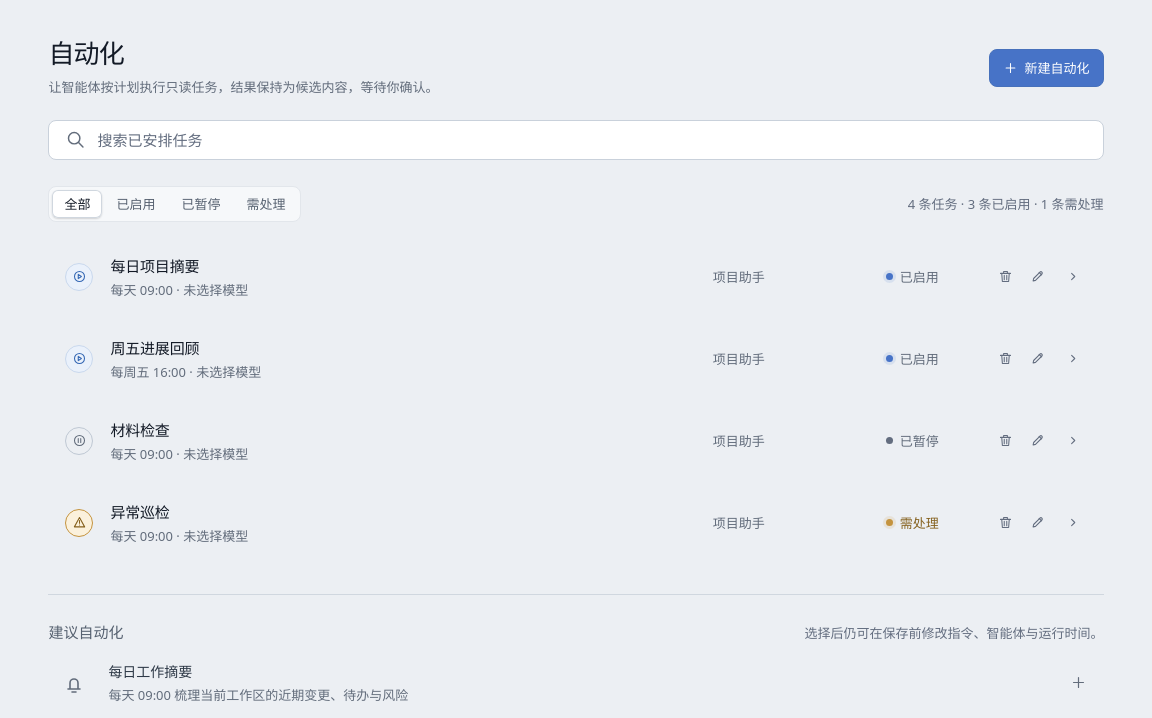
it: 已安排任务页面 › 搜索与筛选会立即收窄任务列表
expect the text "每日项目摘要" is shown: met, box [110,256,199,276]
In the search field labelled "搜索已安排任务": point(574, 140) [97,121,1051,159], type "周五"
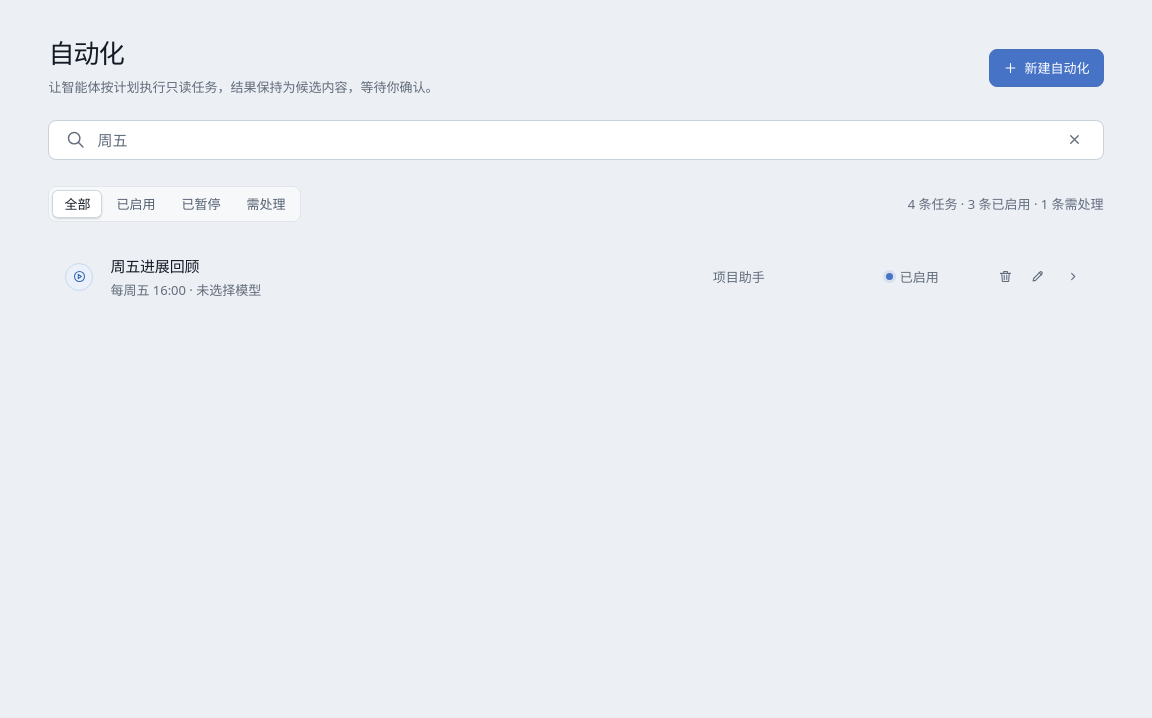
expect the text "周五进展回顾" is shown: met, box [110,256,199,276]
expect the button "每日项目摘要" is gone: met
Click the button named "清除搜索": point(1075, 140) [1061,126,1089,154]
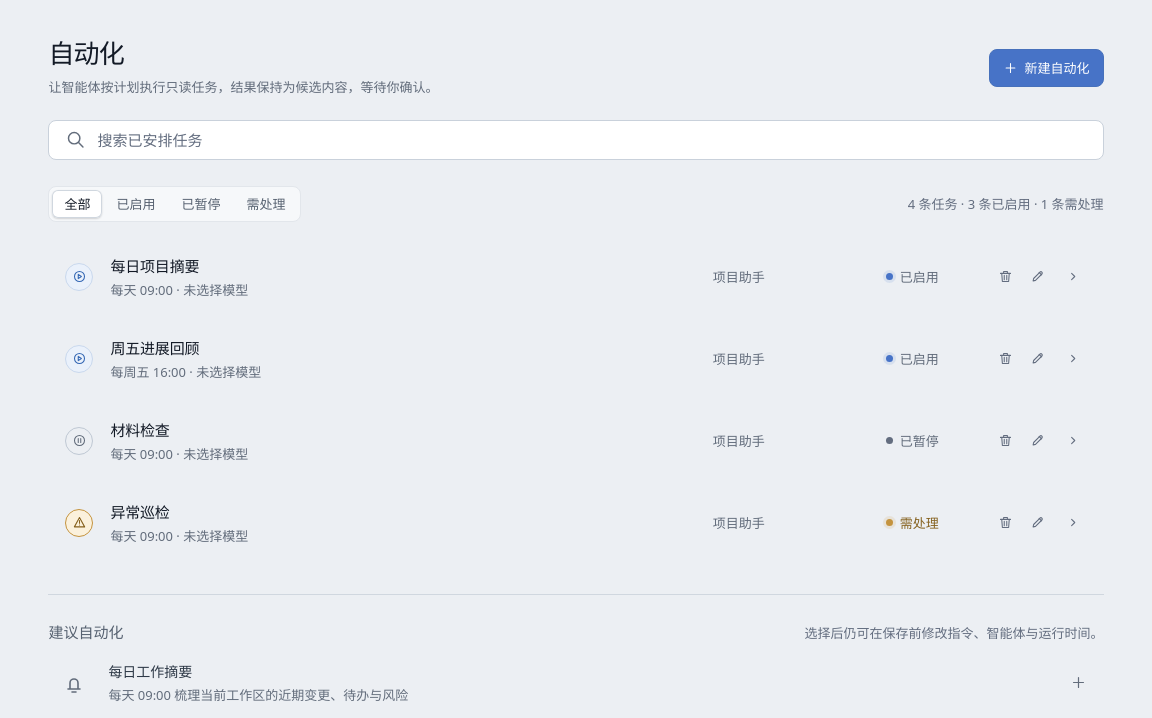
Click the button "已暂停": point(201, 204) [169,190,232,218]
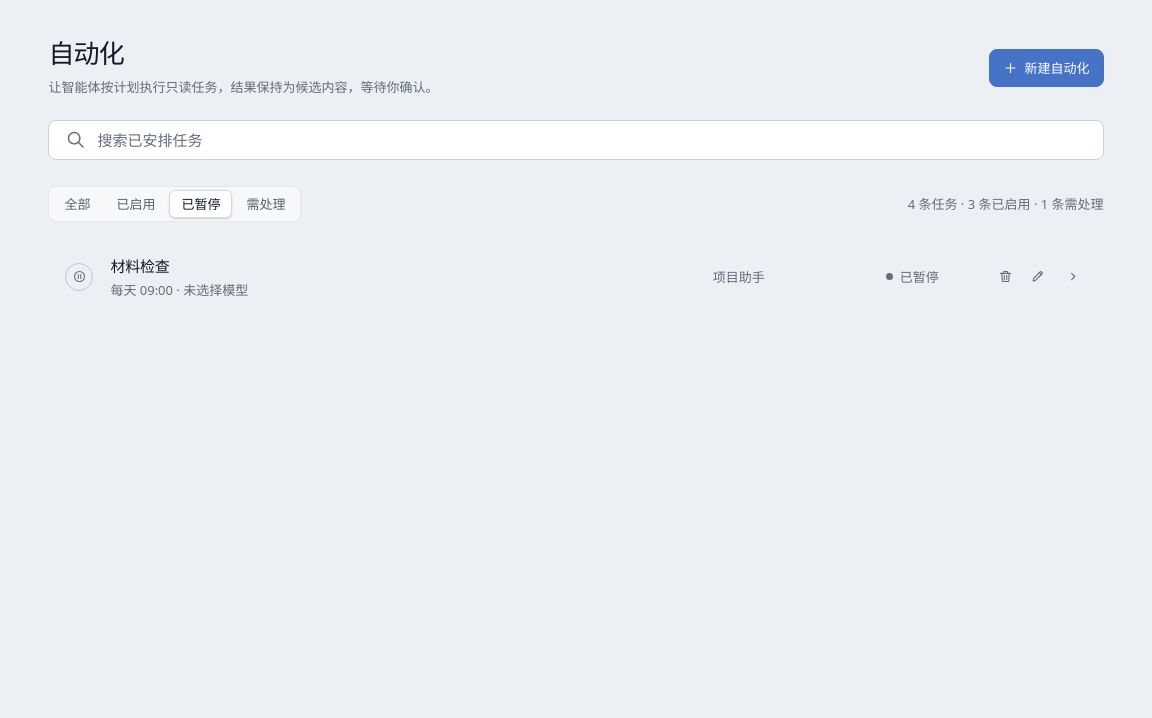
expect the text "材料检查" is shown: met, box [110,256,170,276]
expect the button "周五进展回顾" is gone: met
